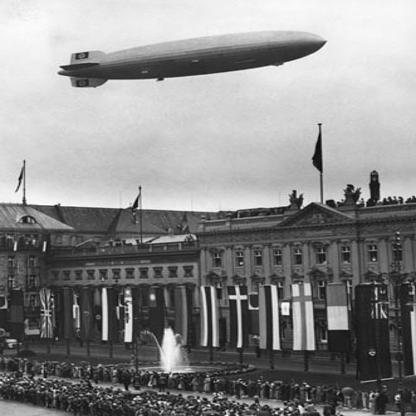Airship: (56, 30, 330, 92)
